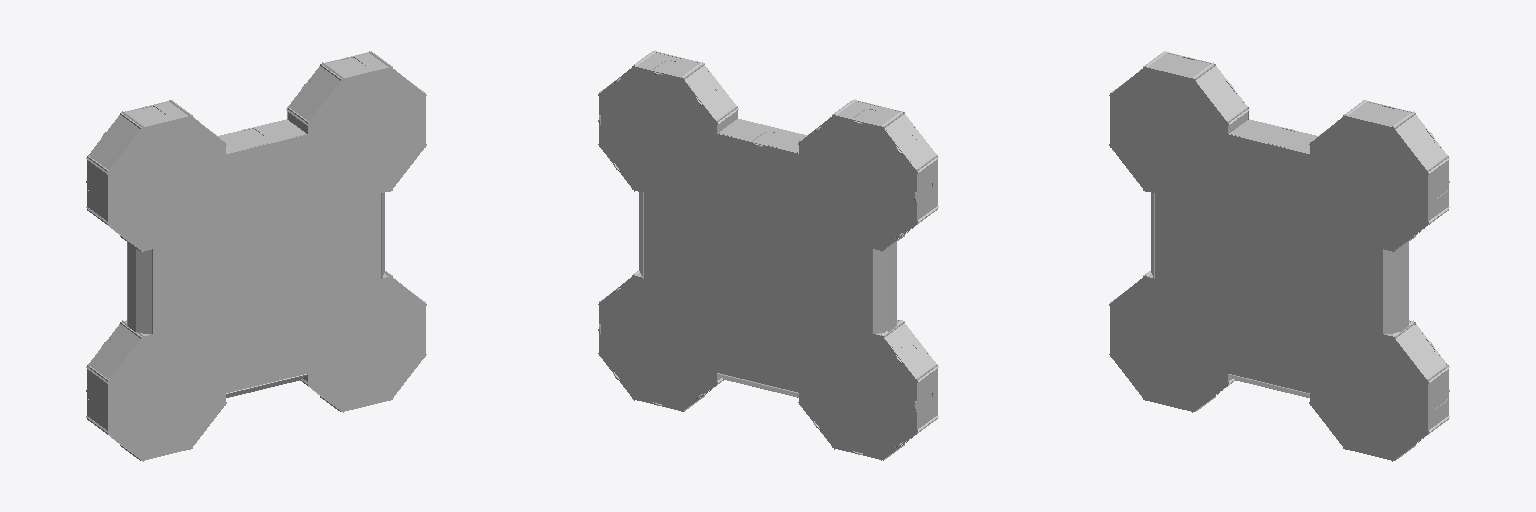
Rendered from SpaceCorridorCenter.obj.
The picture shows the model from 3 angles: view 1: azimuth 30°, elevation 25°; view 2: azimuth 150°, elevation 25°; view 3: azimuth 330°, elevation 25°; orthographic projection.
Visible parts, largest first — view 1: Cube.004_Cube.005, Cube.038_Cube.073, Cube.027_Cube.052, Cube.041_Cube.077, Cube.029_Cube.093, Cube.026_Cube.104, Cube.015_Cube.086, Cube.024_Cube.039, Cube.025_Cube.040; view 2: Cube.049_Cube.004, Cube.038_Cube.073, Cube.027_Cube.052, Cube.041_Cube.077, Cube.029_Cube.093, Cube.026_Cube.104, Cube.015_Cube.086, Cube.024_Cube.039, Cube.025_Cube.040; view 3: Cube.004_Cube.005, Cube.012_Cube.014, Cube.011_Cube.021, Cube.018_Cube.101, Cube.050_Cube.088, Cube.026_Cube.104, Cube.017_Cube.100, Cube.014_Cube.099, Cube.025_Cube.040.
Boxes of the visible parts, x1,y1,x2,y2 form: Cube.004_Cube.005: [106, 66, 426, 461]; Cube.038_Cube.073: [127, 242, 151, 334]; Cube.027_Cube.052: [87, 112, 141, 172]; Cube.041_Cube.077: [87, 321, 141, 381]; Cube.029_Cube.093: [287, 63, 341, 123]; Cube.026_Cube.104: [219, 120, 305, 153]; Cube.015_Cube.086: [86, 365, 107, 433]; Cube.024_Cube.039: [86, 156, 107, 223]; Cube.025_Cube.040: [121, 101, 191, 128]; Cube.049_Cube.004: [598, 65, 918, 460]; Cube.038_Cube.073: [872, 242, 896, 334]; Cube.027_Cube.052: [883, 111, 937, 171]; Cube.041_Cube.077: [882, 320, 937, 381]; Cube.029_Cube.093: [683, 62, 737, 123]; Cube.026_Cube.104: [719, 119, 805, 152]; Cube.015_Cube.086: [914, 365, 936, 432]; Cube.024_Cube.039: [914, 155, 936, 223]; Cube.025_Cube.040: [834, 100, 903, 127]; Cube.004_Cube.005: [1109, 66, 1429, 461]; Cube.012_Cube.014: [1384, 242, 1408, 334]; Cube.011_Cube.021: [1194, 63, 1248, 123]; Cube.018_Cube.101: [1394, 112, 1448, 172]; Cube.050_Cube.088: [1394, 321, 1448, 381]; Cube.026_Cube.104: [1229, 120, 1316, 153]; Cube.017_Cube.100: [1428, 365, 1449, 433]; Cube.014_Cube.099: [1428, 156, 1449, 223]; Cube.025_Cube.040: [1145, 52, 1214, 79].
Size of the model in its own units: 4816 by 4816 by 575.